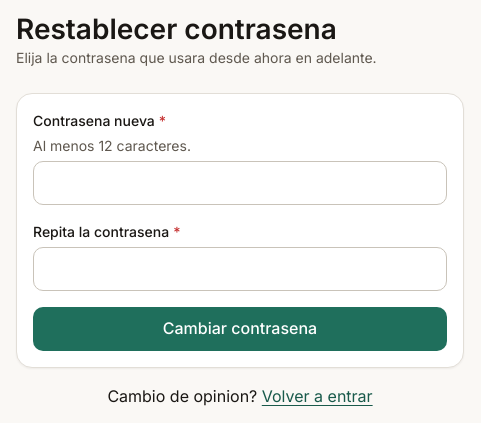
Test case: el enlace ya no sirve › lo explica y ofrece pedir un enlace nuevo en lugar de otro intento
Type "una contrasena larga y normal" into the password field labelled "Contrasena nueva*". click: (240, 183)
box: [33,161,447,205]
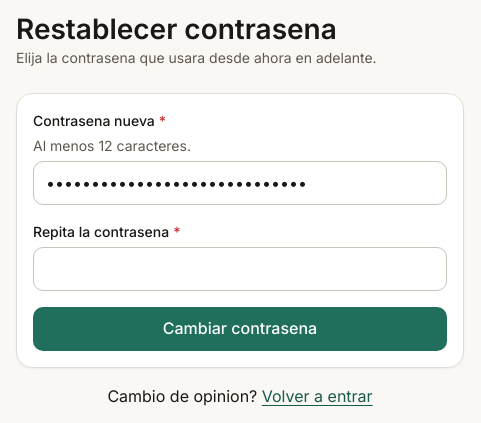
Type "una contrasena larga y normal" into the password field labelled "Repita la contrasena*". click: (240, 269)
box: [33,247,447,291]
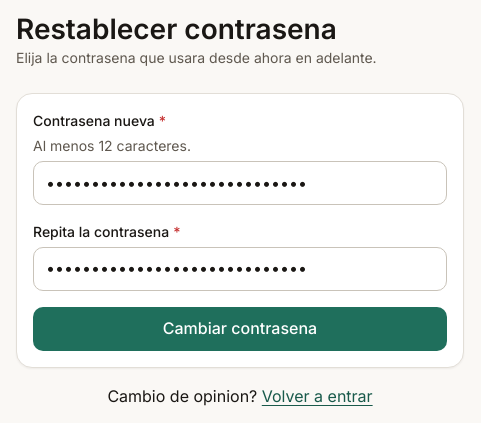
Click the button "Cambiar contrasena". click: (240, 329)
box: [33,307,447,351]
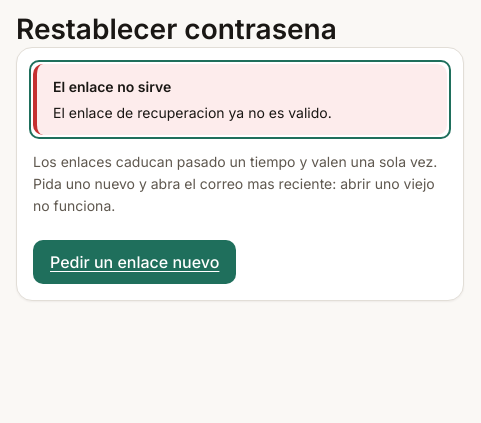
Check: the message shows "valido", box [53,104,332,121]
Check: the label labelled "Contrasena nueva" is gone
